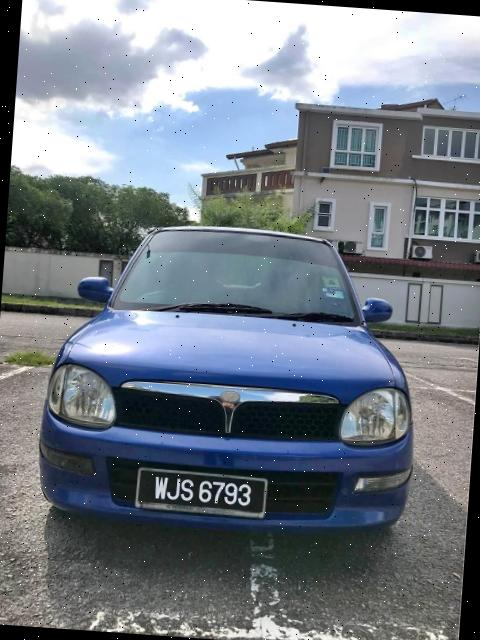License_Plate: (138, 468, 270, 517)
car: (25, 197, 435, 548)
